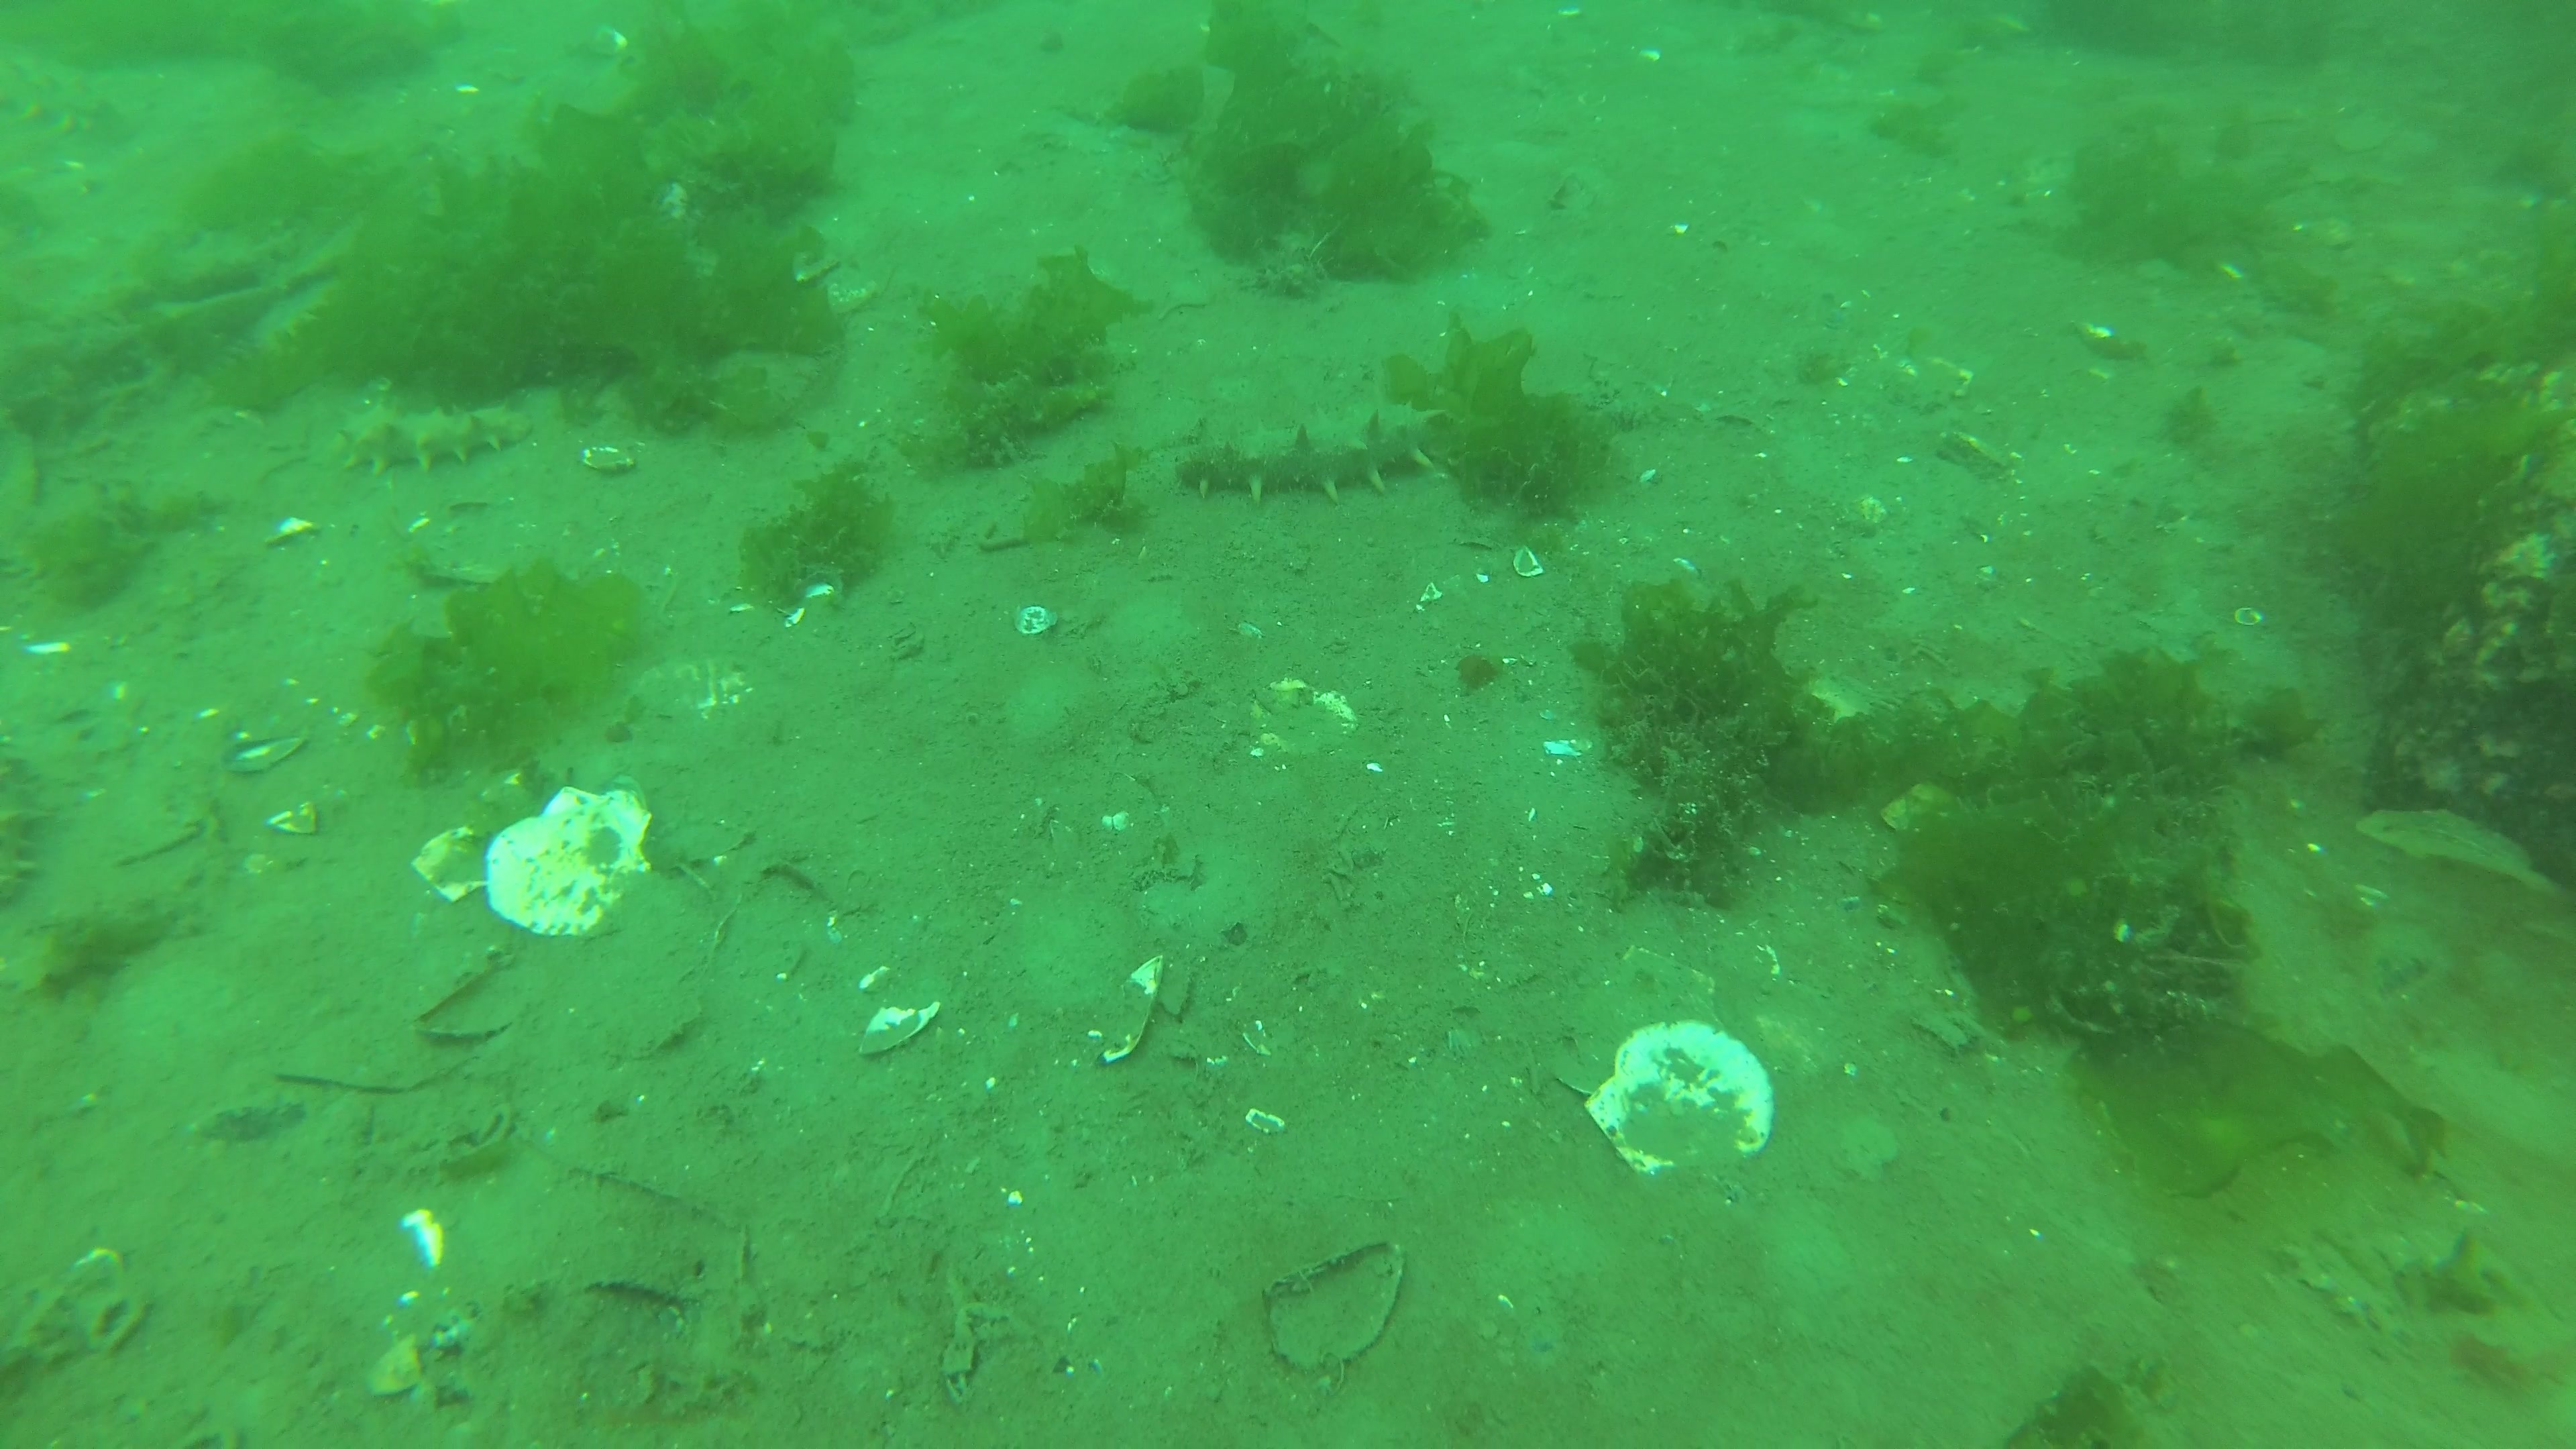holothurian: (1171, 395, 1453, 504), (336, 400, 534, 479), (0, 51, 115, 140), (0, 750, 62, 908)
scallop: (1591, 1021, 1782, 1180), (478, 780, 667, 938)
